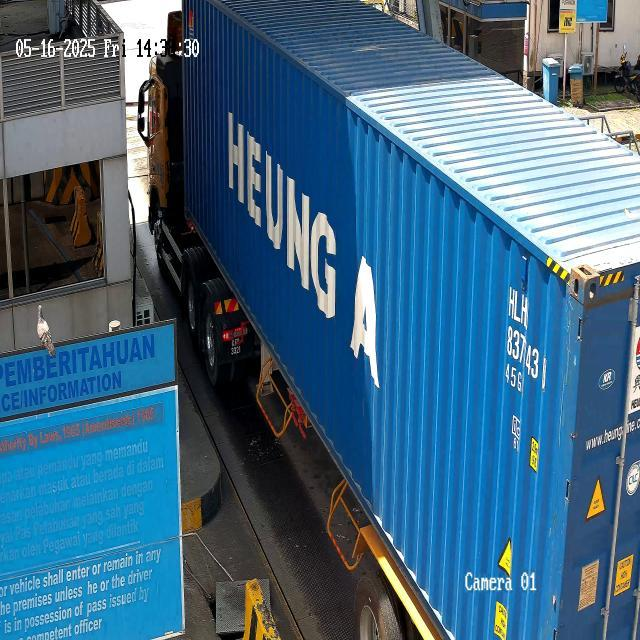ISO: (498, 360, 530, 402)
container_number: (502, 277, 552, 390)
